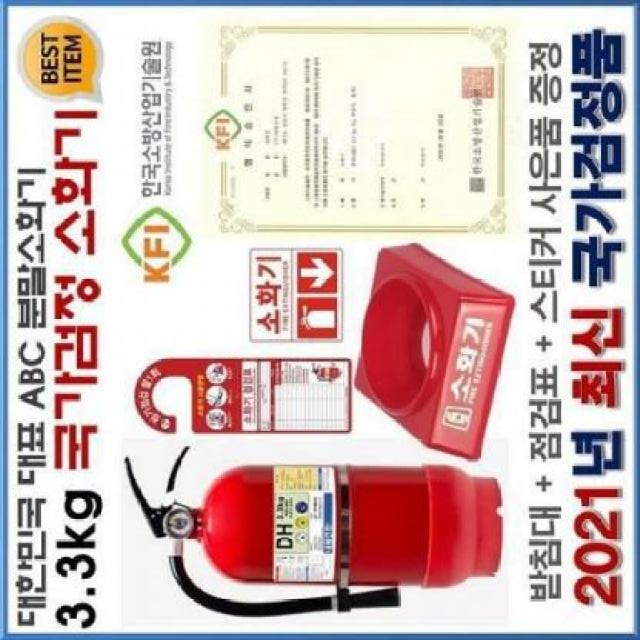fire extinguisher: (123, 445, 505, 619)
